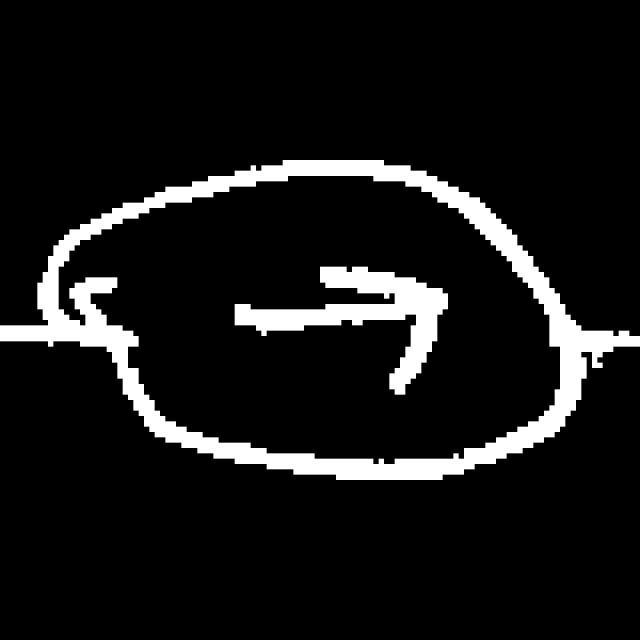current_source: (32, 148, 590, 499)
